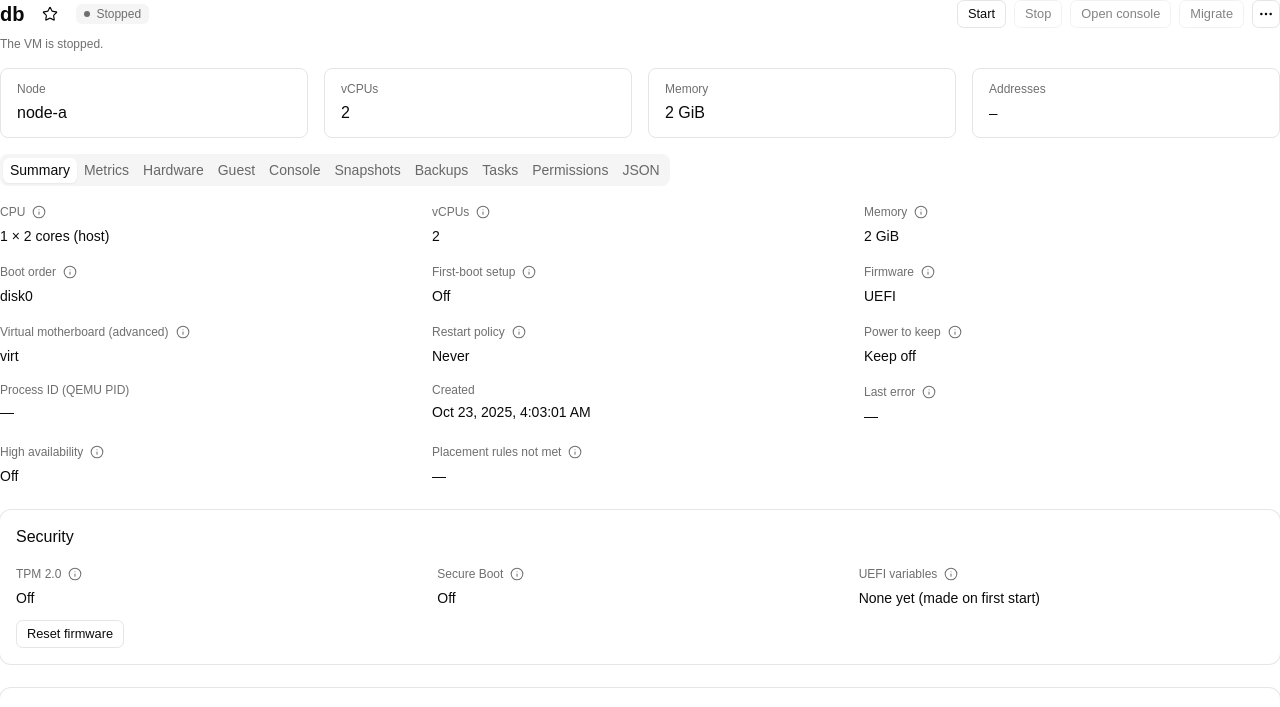
Scenario: converts a stopped VM to a template from its page
Click the button named "Actions for db".
click(1266, 14)  # box [1252,0,1279,28]
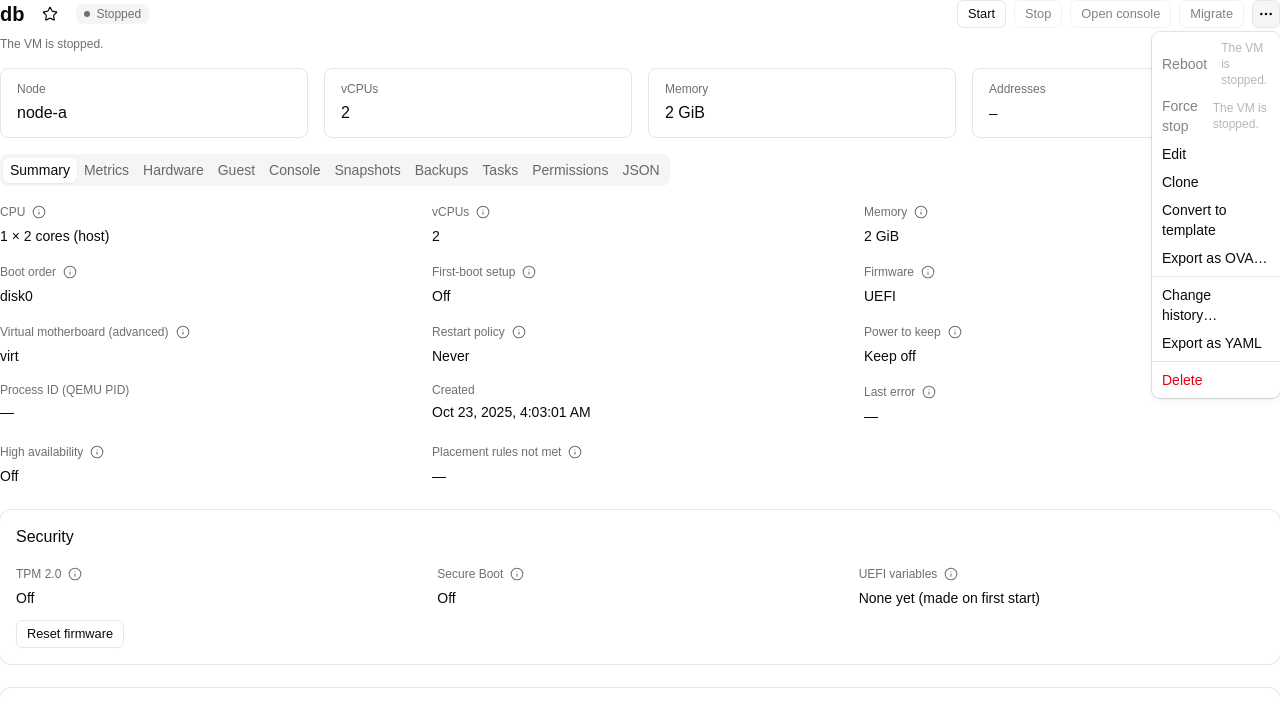
Click the menu item "Convert to template".
click(1194, 220)  # box [1162,202,1227,238]
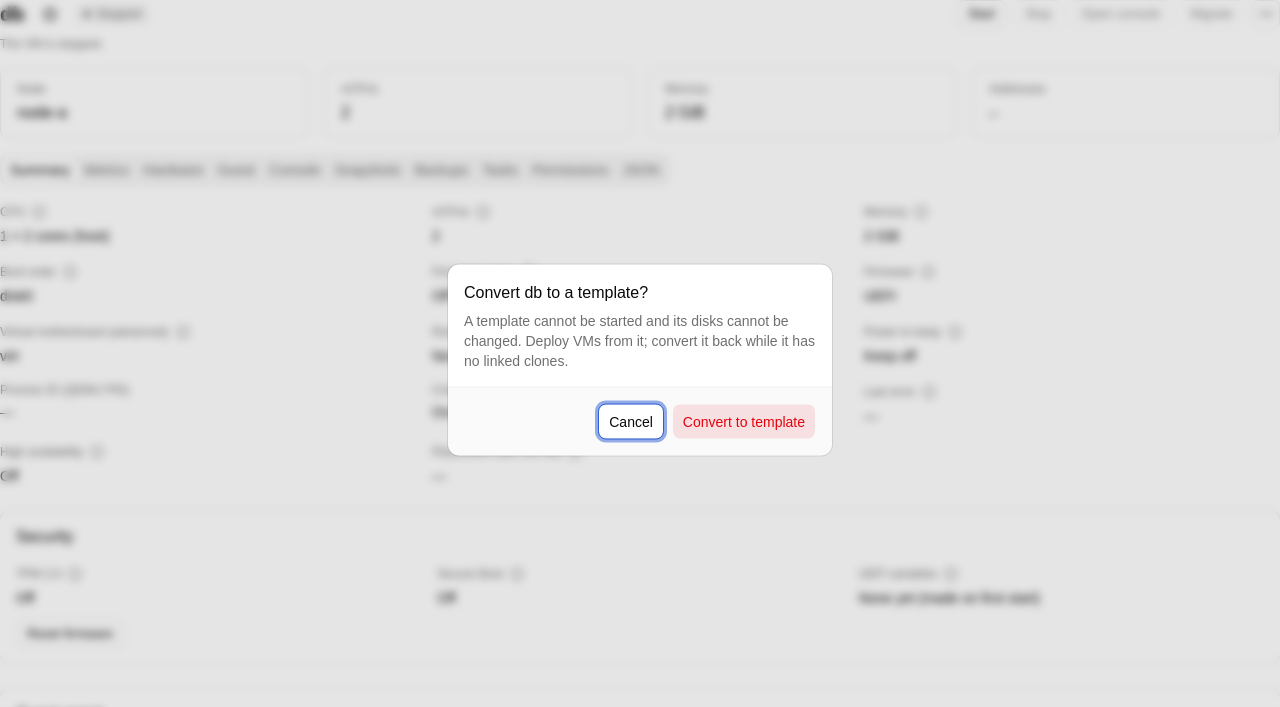
Click the button "Convert to template".
click(744, 422)  # box [672,404,816,440]
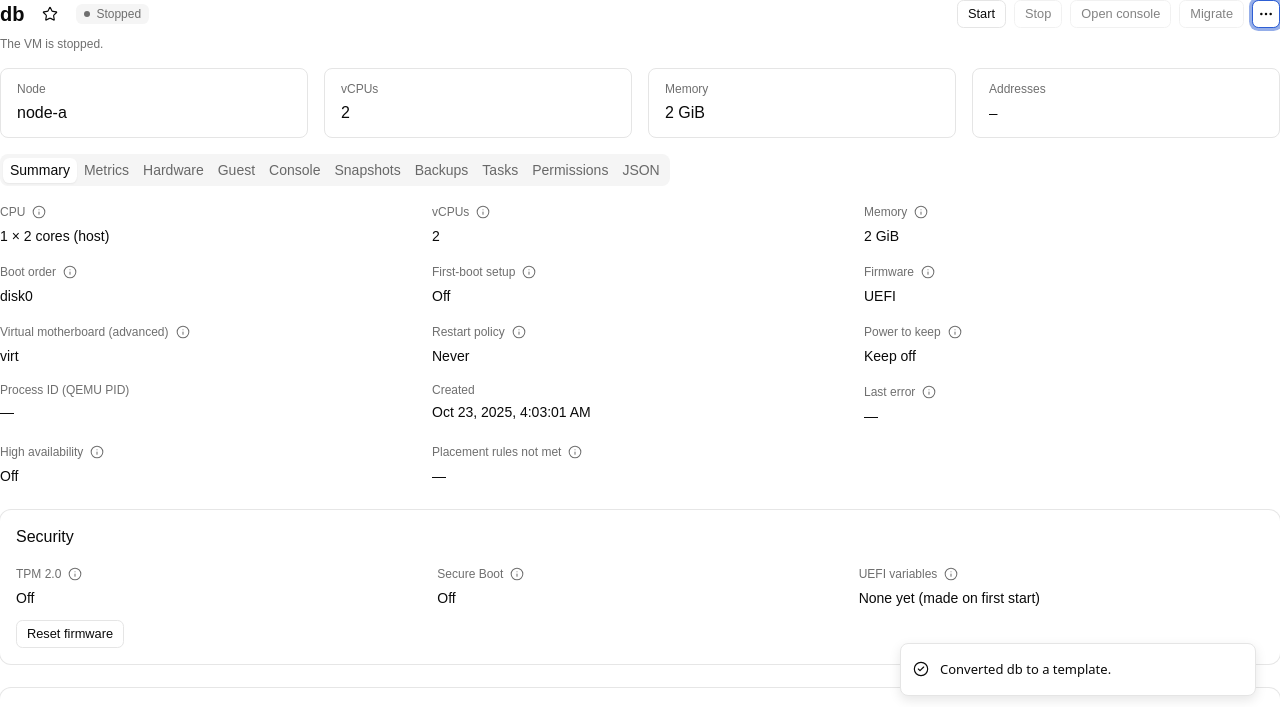
Expected: the text "Converted db to a template." is shown, [940,660,1111,679]
